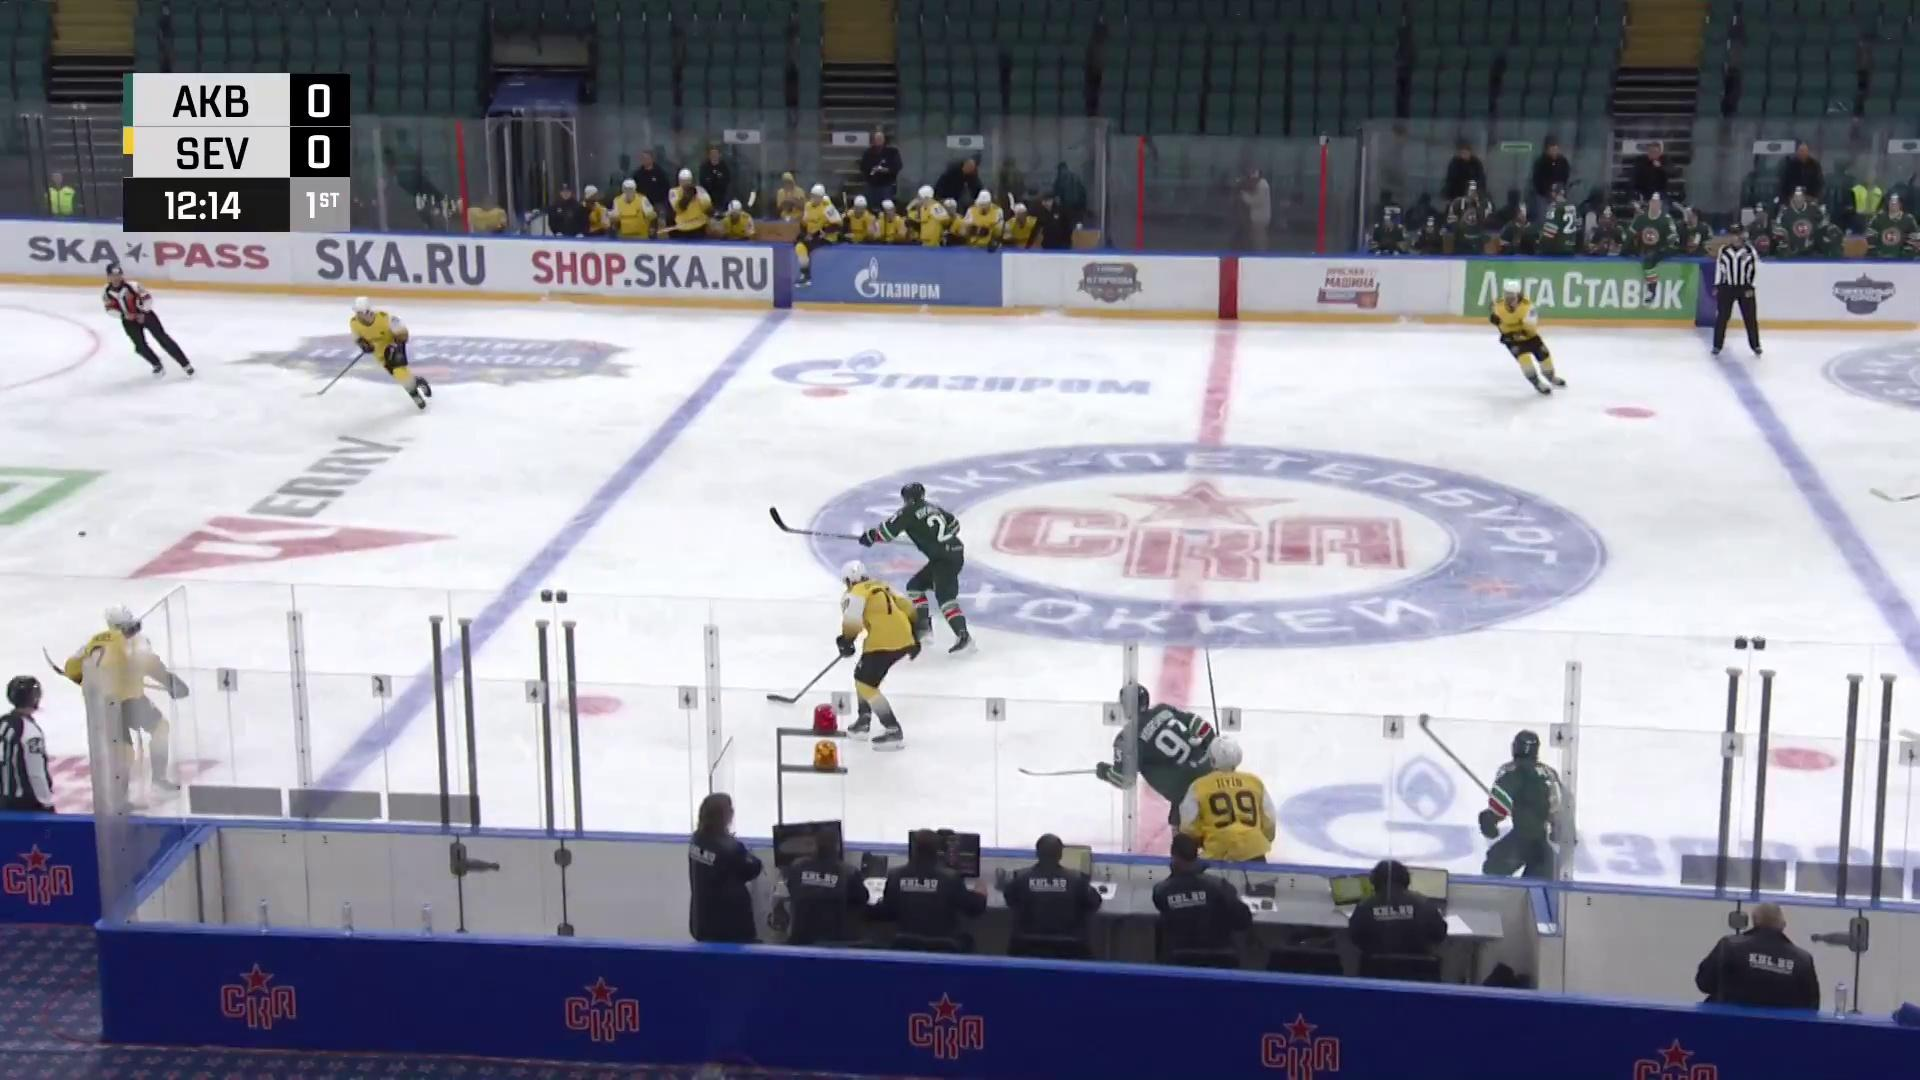ball: (78, 531, 87, 537)
